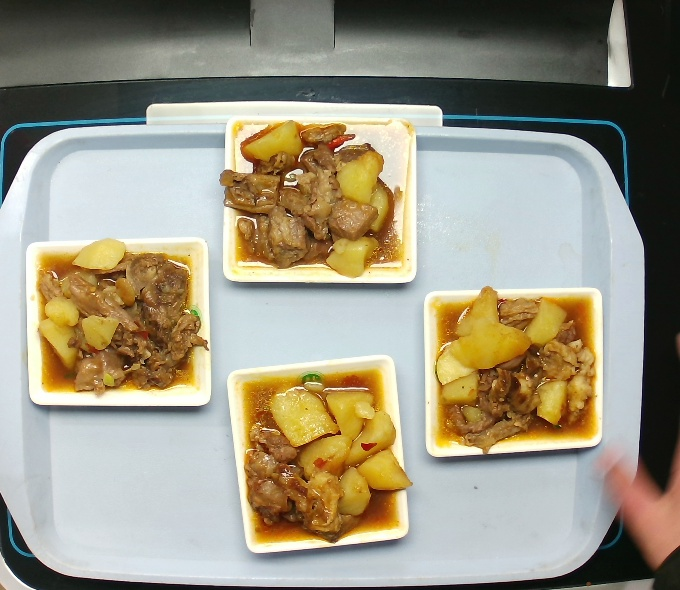wcq-TuDouNiuNan: (242, 368, 412, 550), (218, 124, 417, 277), (36, 239, 209, 403), (430, 288, 597, 452)
